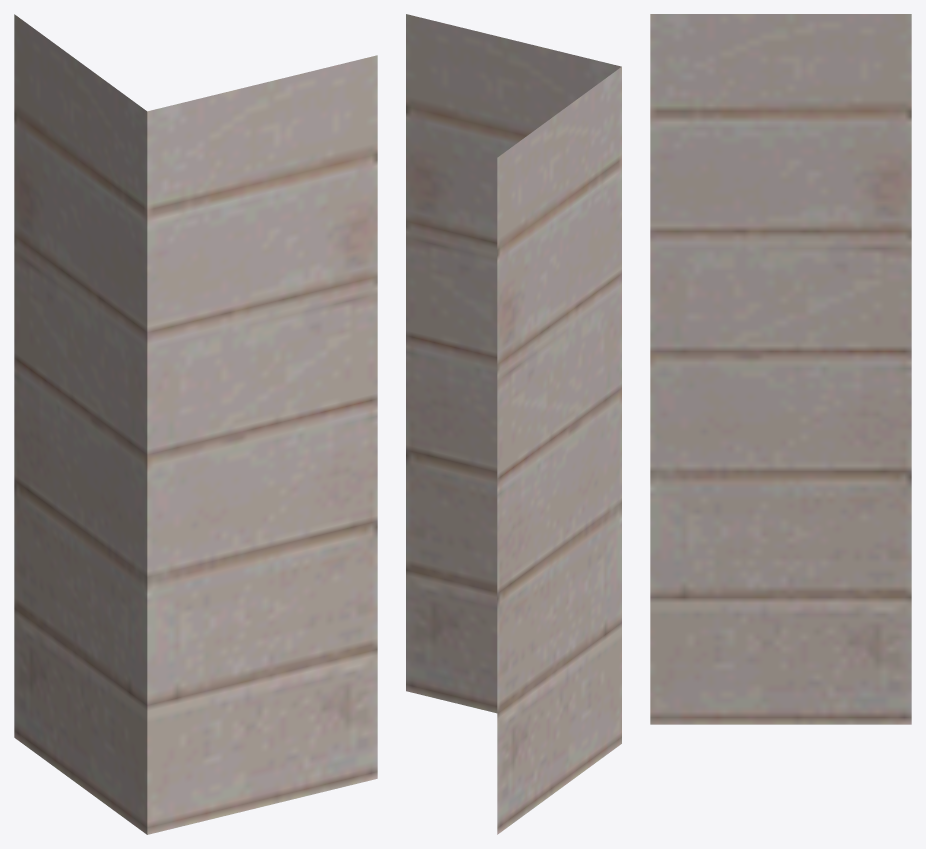
The model's file is Urban_ConcreteWallCorner_Model.fbx.
The picture shows the model from 3 angles, left to right: view 1: azimuth 30°, elevation 25°; view 2: azimuth 150°, elevation 25°; view 3: azimuth 270°, elevation 25°; orthographic projection. The views are drawn at different scales.
Parts seen in each view (by area): view 1: Urban_ConcreteWallCorner_Mesh; view 2: Urban_ConcreteWallCorner_Mesh; view 3: Urban_ConcreteWallCorner_Mesh.
Boxes of the visible parts, left/top/right/bottom form: Urban_ConcreteWallCorner_Mesh: left=14, top=14, right=377, bottom=834; Urban_ConcreteWallCorner_Mesh: left=406, top=14, right=621, bottom=834; Urban_ConcreteWallCorner_Mesh: left=650, top=14, right=911, bottom=724.
Size of the model in its own units: 0.7 by 2.1 by 0.7.
